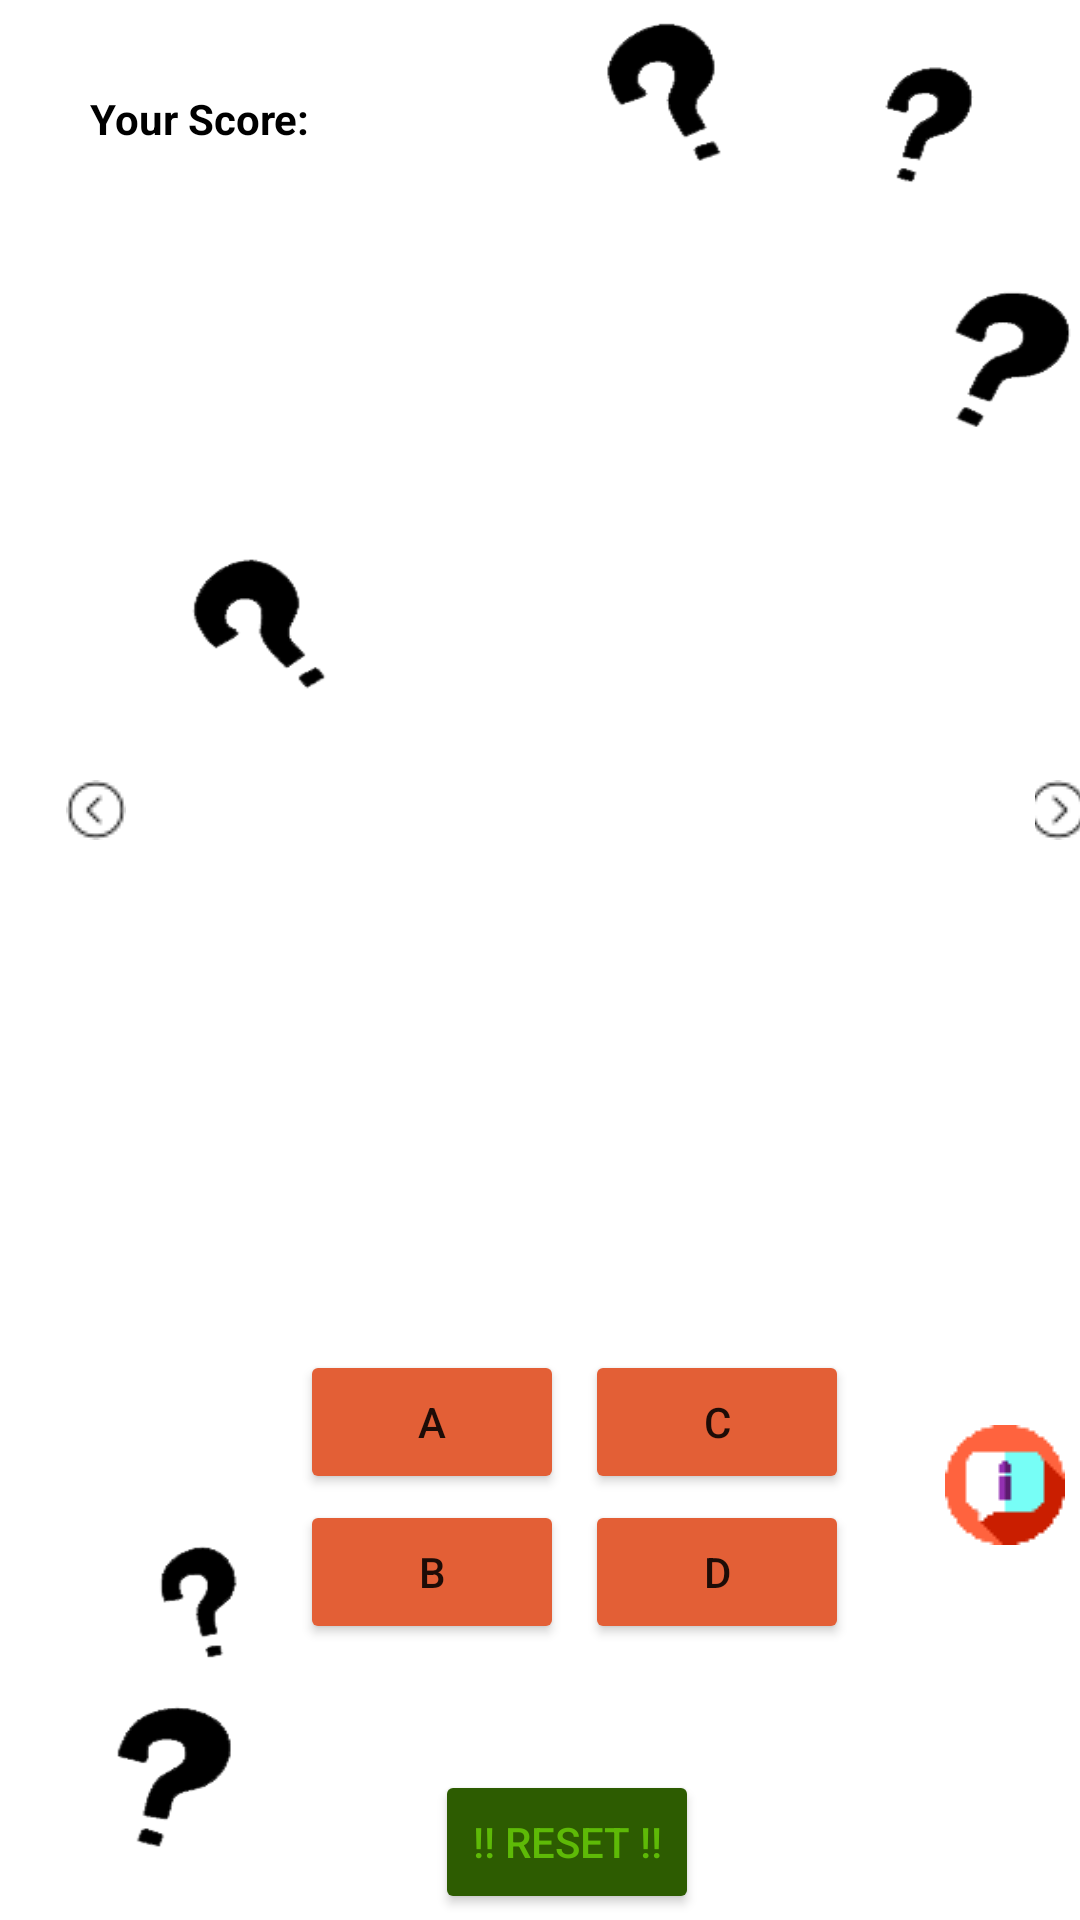

Icon bounding boxes for this 1080*1920 phone screenshot, format rect(x1, y1, x2, y2):
hint: rect(945, 1425, 1065, 1545)
NEXT: rect(1035, 780, 1080, 840)
Previous Image: rect(66, 780, 126, 840)
